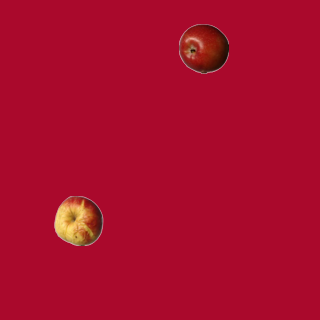Apple Braeburn: (178, 23, 228, 73)
Apple Red Yellow 1: (53, 195, 103, 245)
